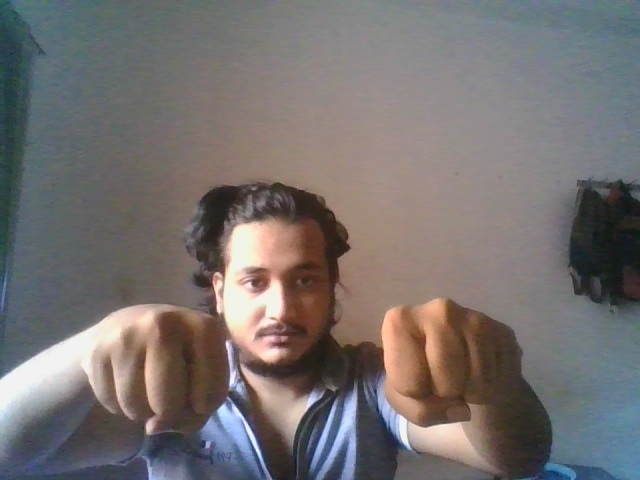Close: (81, 302, 232, 438), (379, 298, 525, 428)
